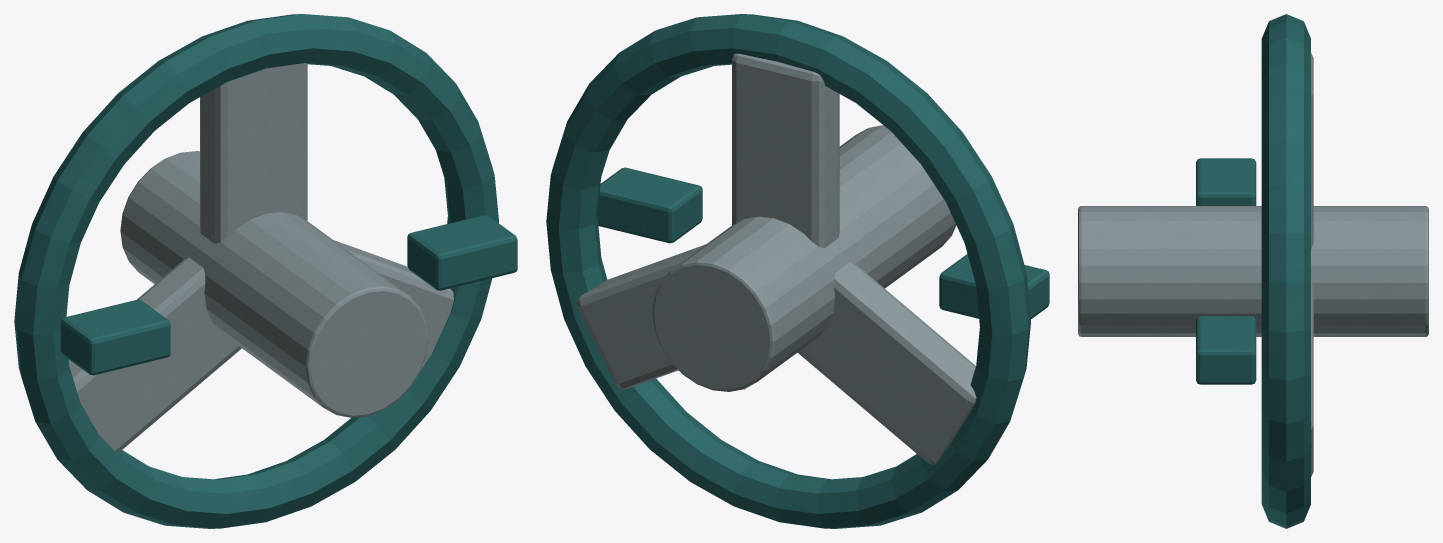
The model's file is propeller-lod-0.glb.
3 renders of one model, left to right at view 1: azimuth 30°, elevation 25°; view 2: azimuth 150°, elevation 25°; view 3: azimuth 270°, elevation 25°, orthographic. The views are drawn at different scales.
Parts seen in each view (by area): view 1: propeller_lod_0; view 2: propeller_lod_0; view 3: propeller_lod_0.
Part boxes in pixels (left/top/right/bottom): propeller_lod_0: left=14, top=14, right=517, bottom=528; propeller_lod_0: left=546, top=14, right=1049, bottom=528; propeller_lod_0: left=1078, top=14, right=1428, bottom=528.
Size of the model in its own units: 0.94 by 0.94 by 0.64.
Materials: 1 (1 with a texture image).
